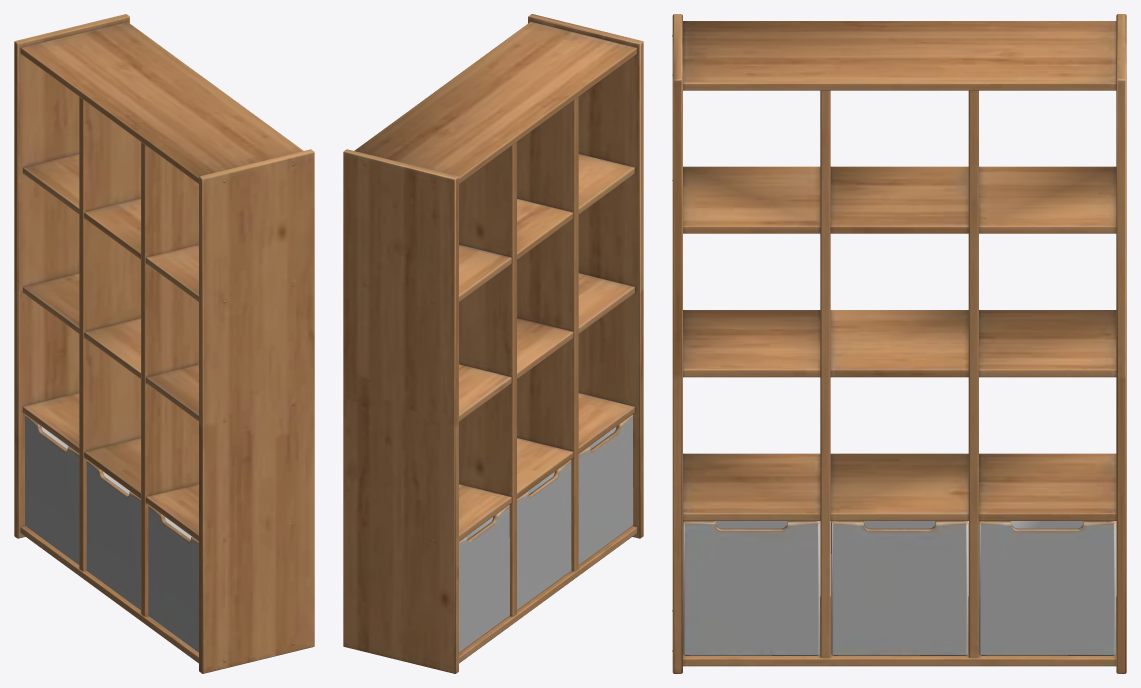
The model's file is prateleira.glb.
The picture shows the model from 3 angles, left to right: view 1: azimuth 30°, elevation 25°; view 2: azimuth 150°, elevation 25°; view 3: azimuth 270°, elevation 25°; orthographic projection. The views are drawn at different scales.
Visible parts, largest first — view 1: wooden_display_shelves_01, wooden_display_shelves_01_drawer_01, wooden_display_shelves_01_drawer_02, wooden_display_shelves_01_drawer_03; view 2: wooden_display_shelves_01, wooden_display_shelves_01_drawer_03, wooden_display_shelves_01_drawer_02, wooden_display_shelves_01_drawer_01; view 3: wooden_display_shelves_01, wooden_display_shelves_01_drawer_02, wooden_display_shelves_01_drawer_01, wooden_display_shelves_01_drawer_03.
Part boxes in pixels (x1,y1,x2,y2): wooden_display_shelves_01: [14, 14, 314, 673]; wooden_display_shelves_01_drawer_01: [25, 415, 79, 565]; wooden_display_shelves_01_drawer_02: [86, 460, 140, 610]; wooden_display_shelves_01_drawer_03: [148, 505, 198, 652]; wooden_display_shelves_01: [343, 14, 643, 673]; wooden_display_shelves_01_drawer_03: [578, 415, 633, 565]; wooden_display_shelves_01_drawer_02: [517, 460, 571, 610]; wooden_display_shelves_01_drawer_01: [459, 505, 509, 652]; wooden_display_shelves_01: [672, 14, 1126, 673]; wooden_display_shelves_01_drawer_02: [831, 521, 968, 655]; wooden_display_shelves_01_drawer_01: [979, 521, 1115, 655]; wooden_display_shelves_01_drawer_03: [683, 521, 819, 655].
Bounding box in the file's own units: 0.3714 × 1.56 × 1.08.
Materials: 1 (1 with a texture image).
